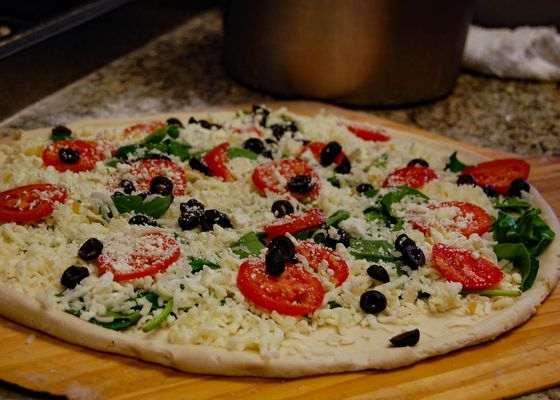pizza: (221, 2, 473, 108)
